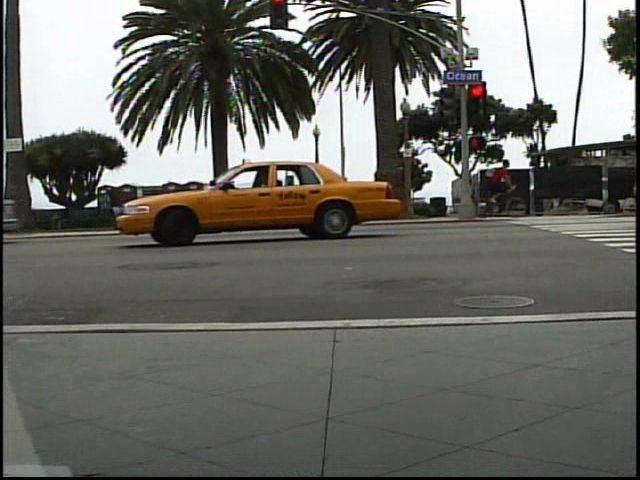person: (482, 157, 512, 211)
